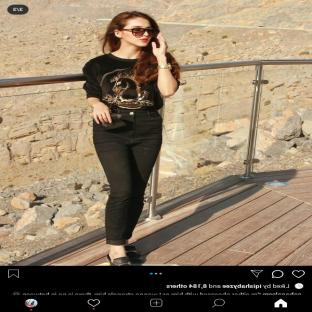Human: (83, 11, 185, 266)
